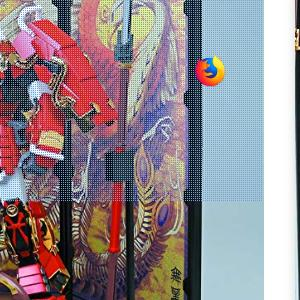firefox: (195, 55, 225, 87)
